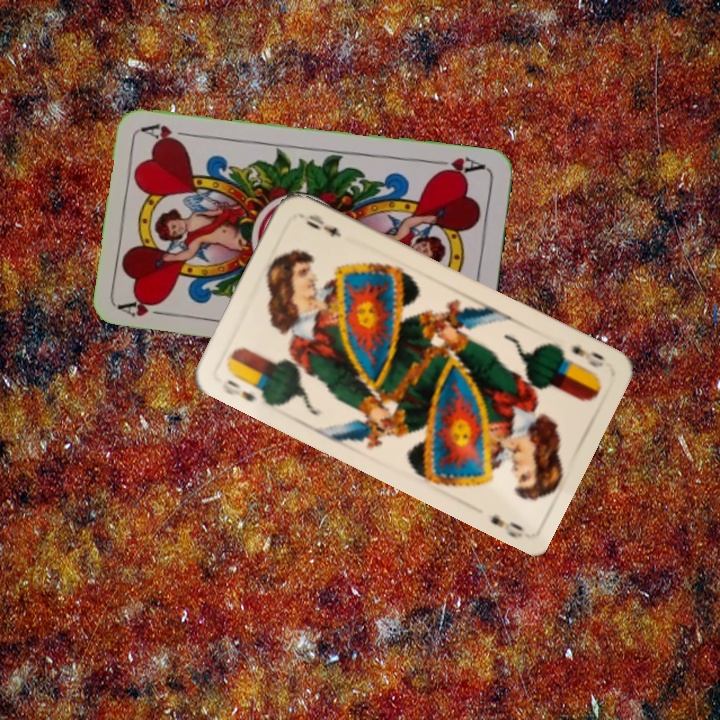EO: (218, 375, 258, 405), (567, 341, 606, 371)
HA: (428, 152, 488, 179), (117, 296, 176, 319)
